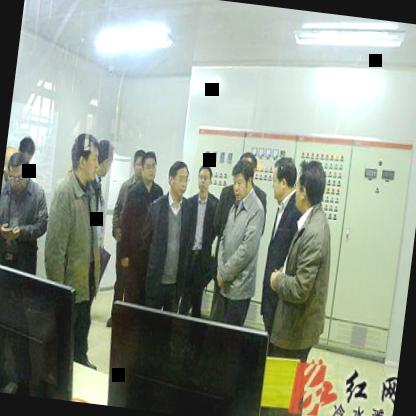head: (292, 157, 331, 218), (67, 128, 97, 179), (270, 154, 300, 202), (2, 154, 34, 196), (229, 153, 257, 200), (90, 134, 116, 182), (164, 157, 192, 200), (193, 157, 215, 196), (15, 134, 36, 168), (140, 147, 160, 182), (129, 146, 147, 180)
